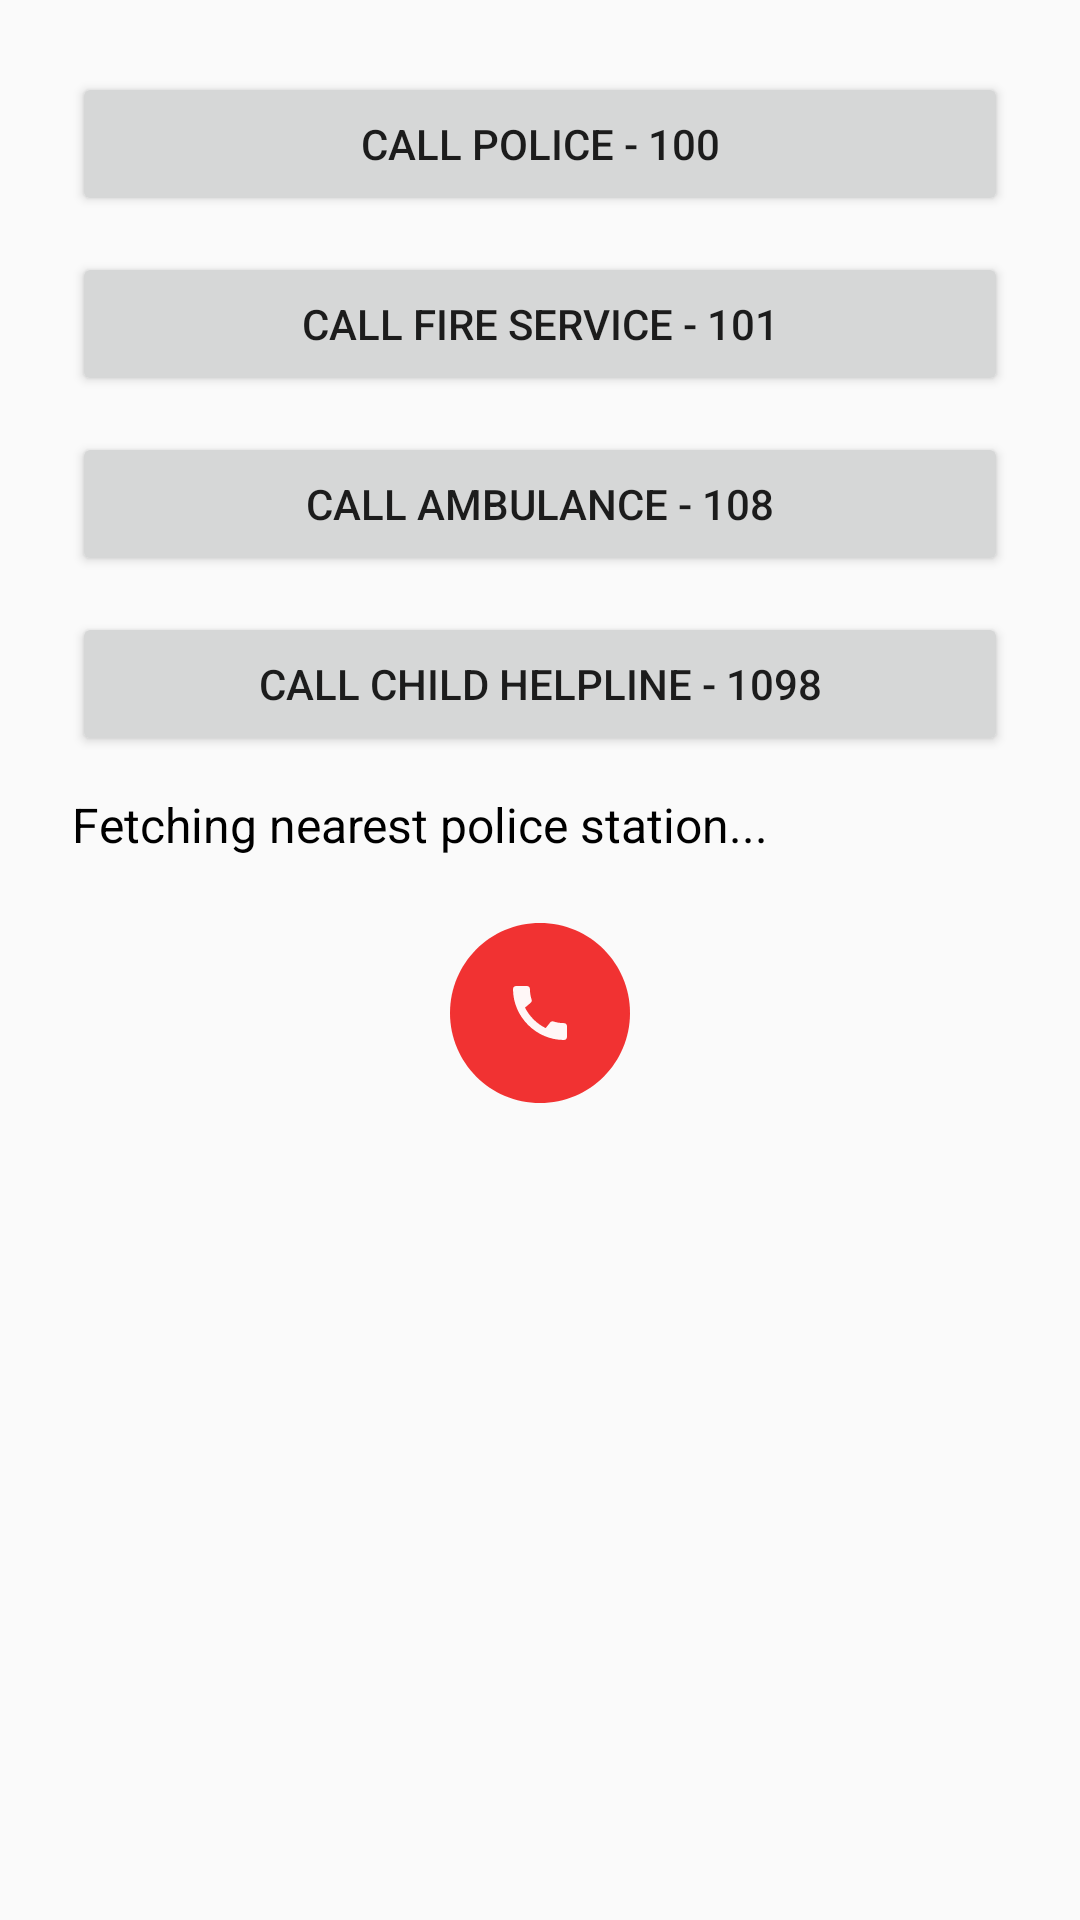

Icons on this 1080w x 1920h Android screen, each with its box as Rect(x1, y1, x2, y2):
Call Police: Rect(450, 923, 630, 1103)
